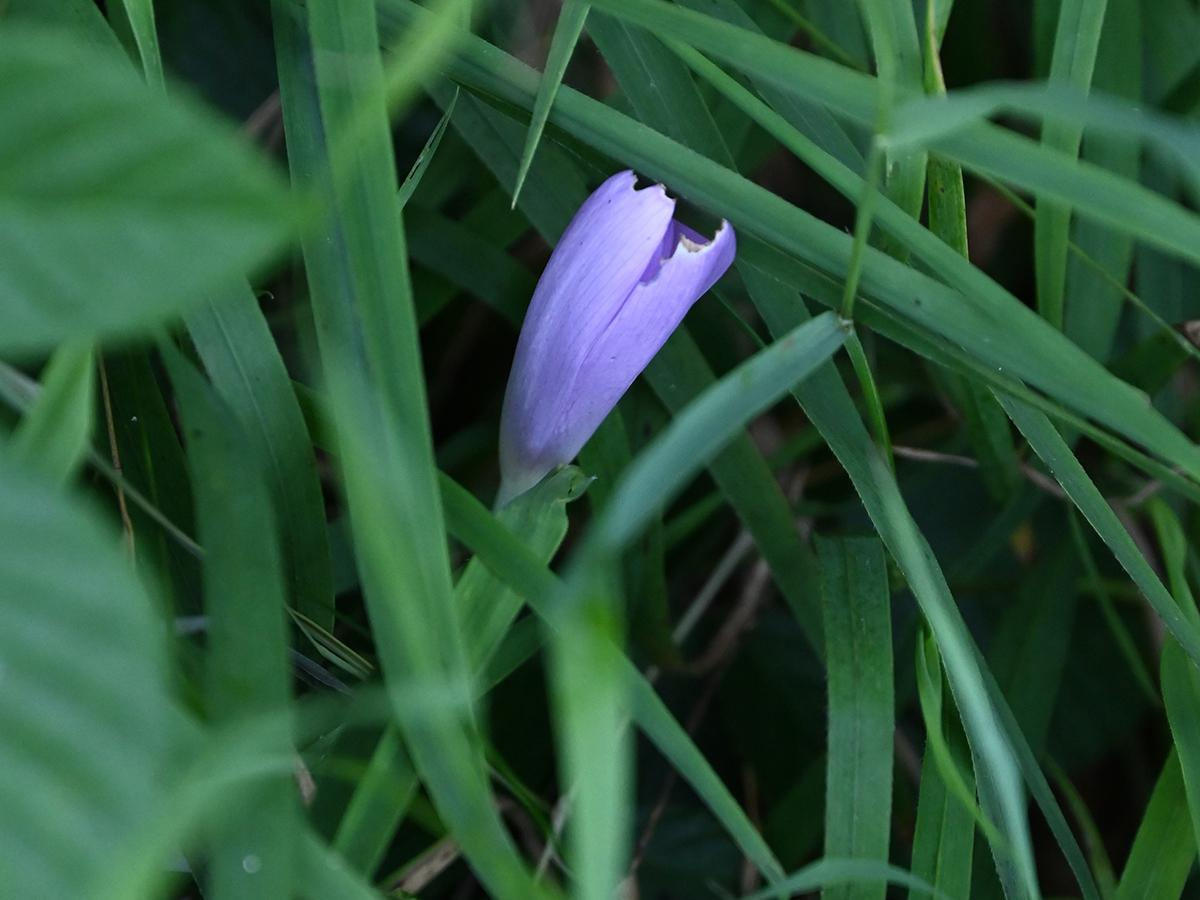Colchicum autumnale L: (436, 98, 788, 737)
